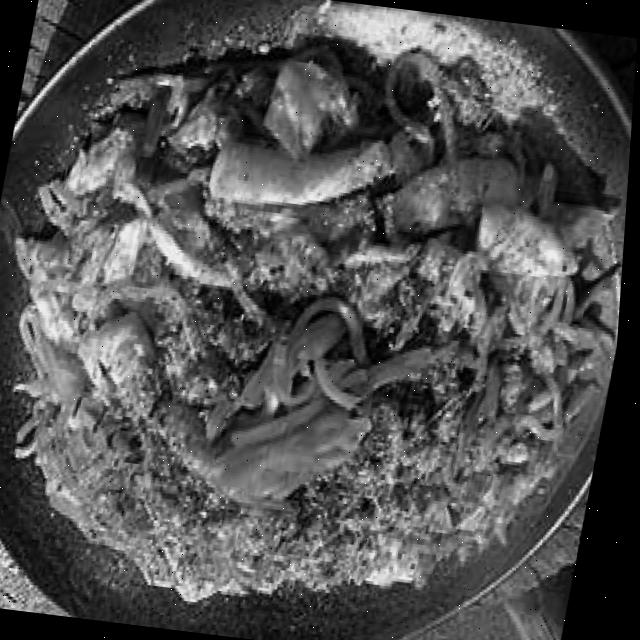面条主食: (0, 14, 630, 640)
